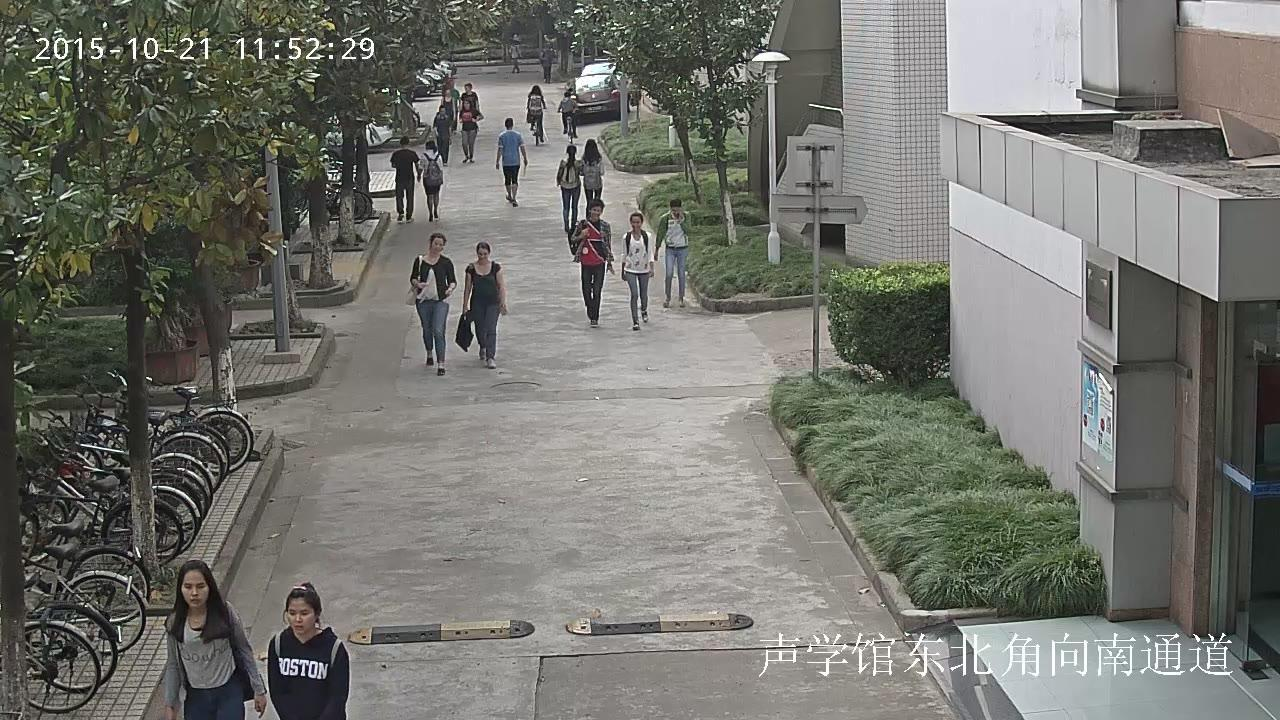person: (161, 560, 268, 720), (267, 582, 351, 720), (402, 232, 457, 375), (455, 240, 507, 368), (568, 198, 614, 327), (619, 212, 656, 330), (654, 197, 689, 307), (494, 118, 527, 207), (389, 136, 420, 223), (555, 144, 582, 233), (415, 140, 442, 221), (579, 139, 605, 221), (459, 100, 483, 162), (526, 84, 547, 145), (556, 89, 578, 144), (526, 84, 546, 142), (434, 105, 451, 166), (557, 90, 577, 138), (440, 88, 458, 129), (460, 83, 480, 112), (540, 50, 552, 84), (509, 42, 520, 73)
